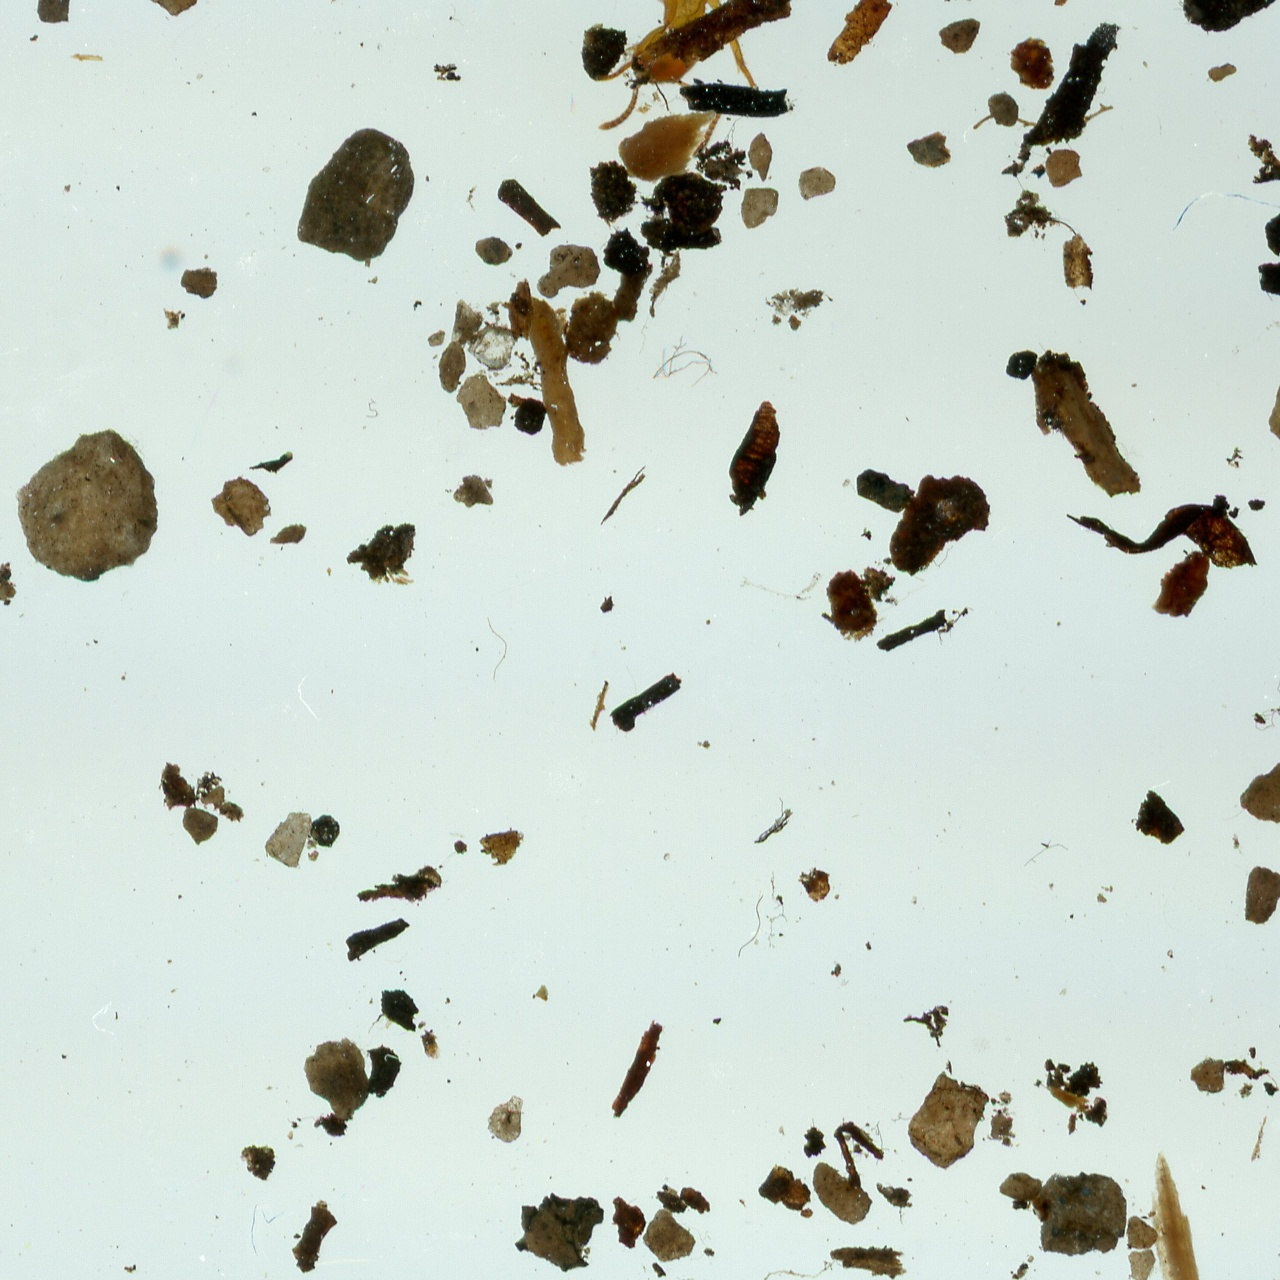arthropod: (591, 0, 788, 162)
